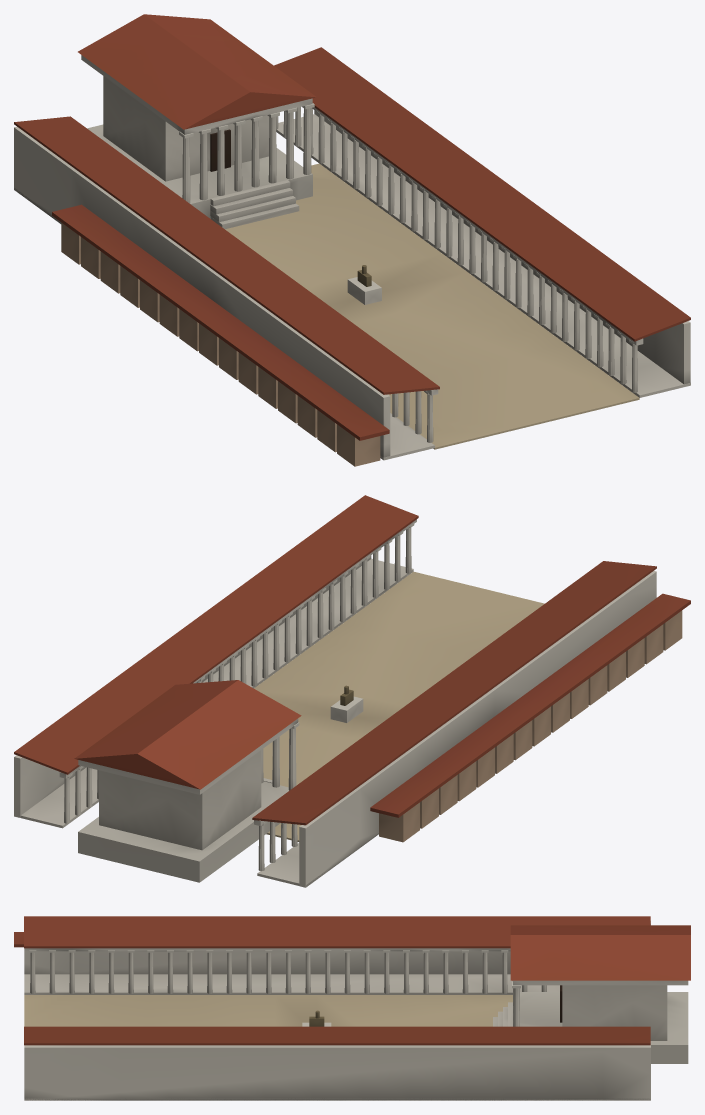
Rendered from forum-of-caesar.glb.
3 views of the same model, one above another, from view 1: azimuth 30°, elevation 25°; view 2: azimuth 150°, elevation 25°; view 3: azimuth 270°, elevation 25° (orthographic). The views are drawn at different scales.
Parts seen in each view (by area): view 1: p2_stage2, p1_shops, p0_plaza; view 2: p2_stage2, p1_shops, p0_plaza; view 3: p1_shops, p2_stage2, p0_plaza.
Boxes of the visible parts, x1,y1,x2,y2 form: p2_stage2: (14, 14, 690, 440); p1_shops: (14, 76, 690, 466); p0_plaza: (225, 163, 639, 449); p2_stage2: (14, 495, 690, 825); p1_shops: (14, 519, 682, 887); p0_plaza: (254, 571, 544, 841); p1_shops: (24, 921, 688, 1100); p2_stage2: (14, 916, 690, 1045); p0_plaza: (24, 995, 512, 1026).
Size of the model in its own units: 79 by 27.47 by 162.
